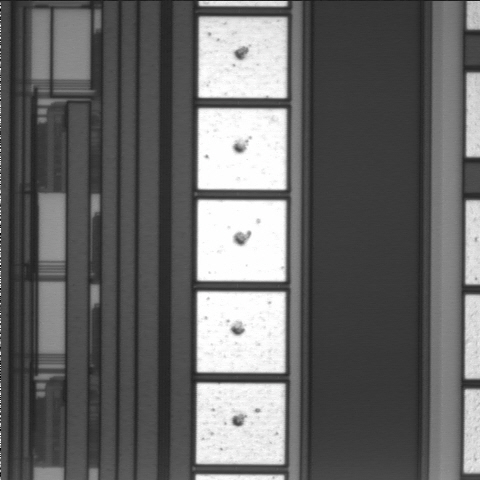pad: (198, 108, 287, 190), (198, 17, 287, 98), (197, 200, 286, 281), (197, 292, 286, 373), (196, 383, 285, 464)
